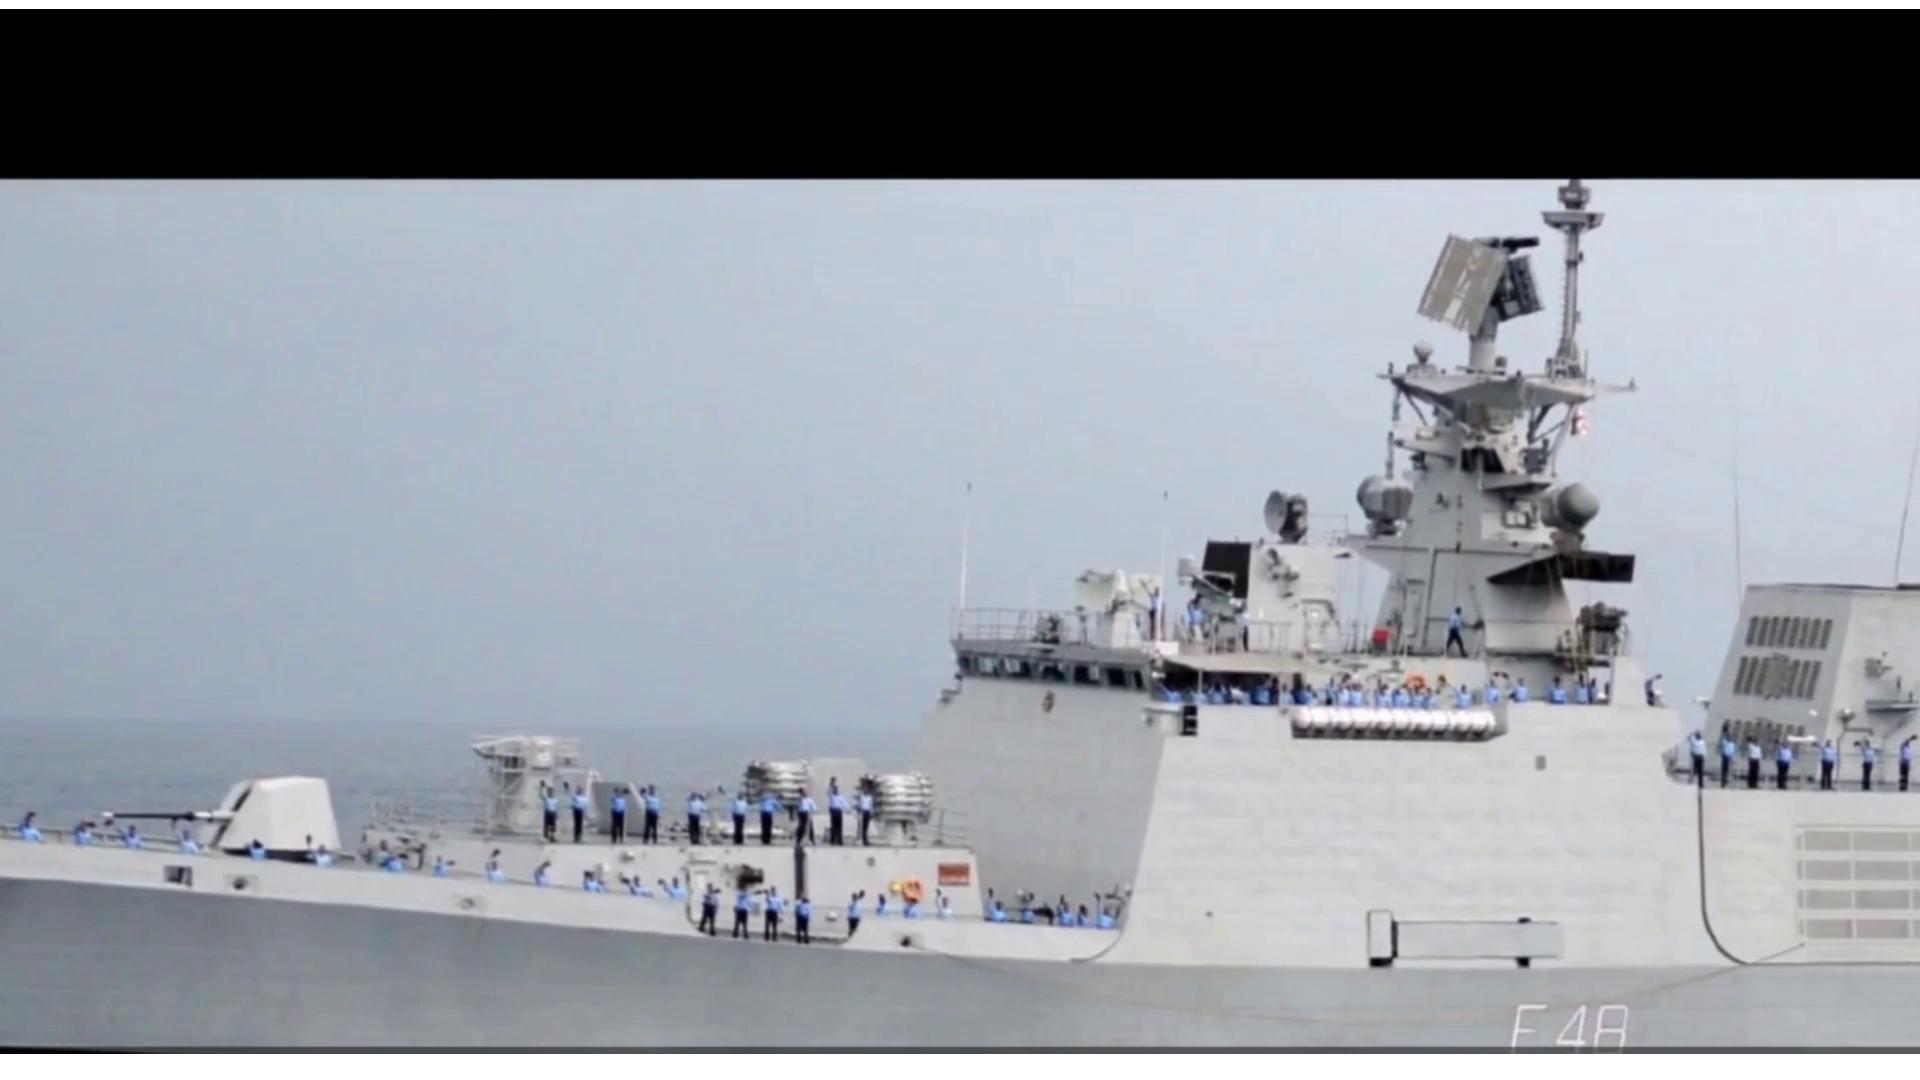OCR: (1486, 992, 1643, 1054)
